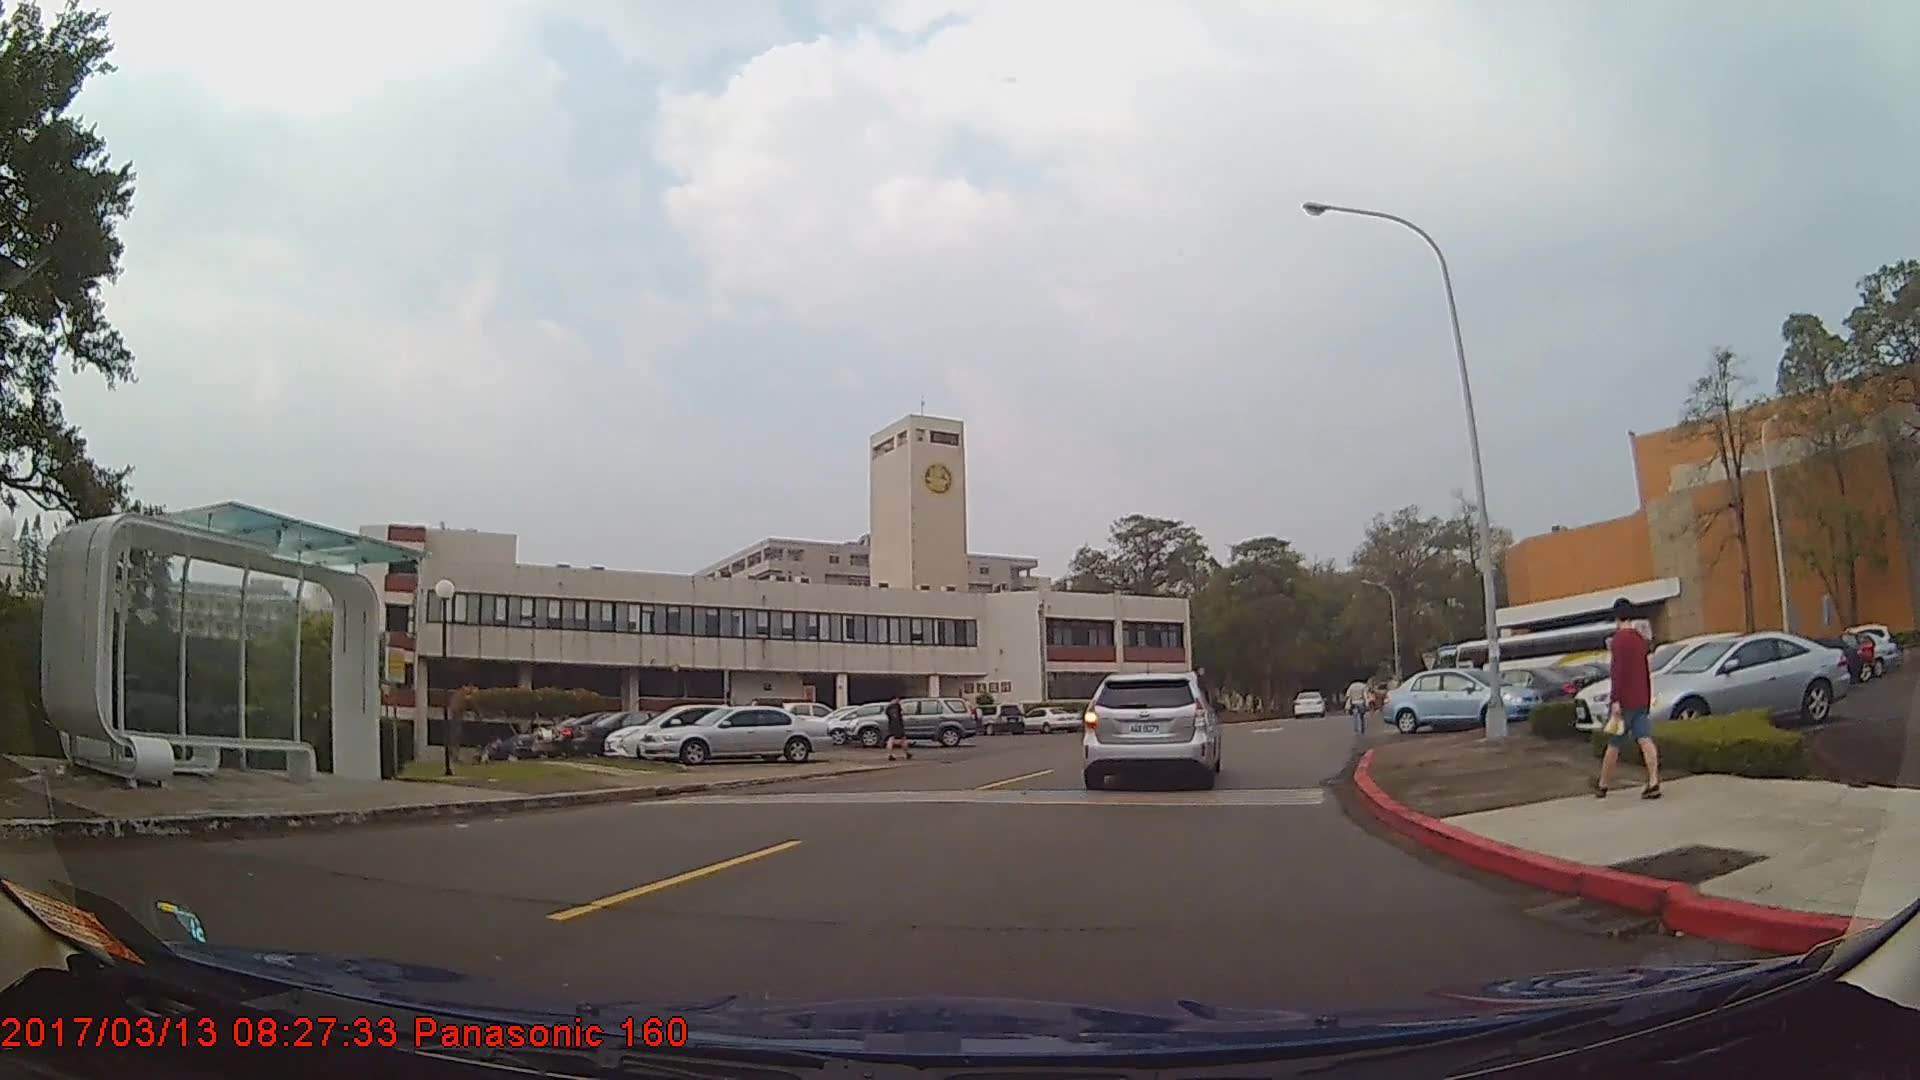pedestrian: (1601, 601, 1665, 813), (884, 693, 913, 763), (1347, 672, 1373, 740)
vehicle: (1572, 638, 1808, 738), (1619, 629, 1852, 729), (1083, 667, 1219, 790), (638, 707, 834, 767), (602, 701, 793, 759), (1379, 667, 1542, 734), (572, 708, 711, 759), (848, 699, 978, 750), (1014, 706, 1082, 737), (964, 705, 1026, 739), (1293, 689, 1327, 720)
